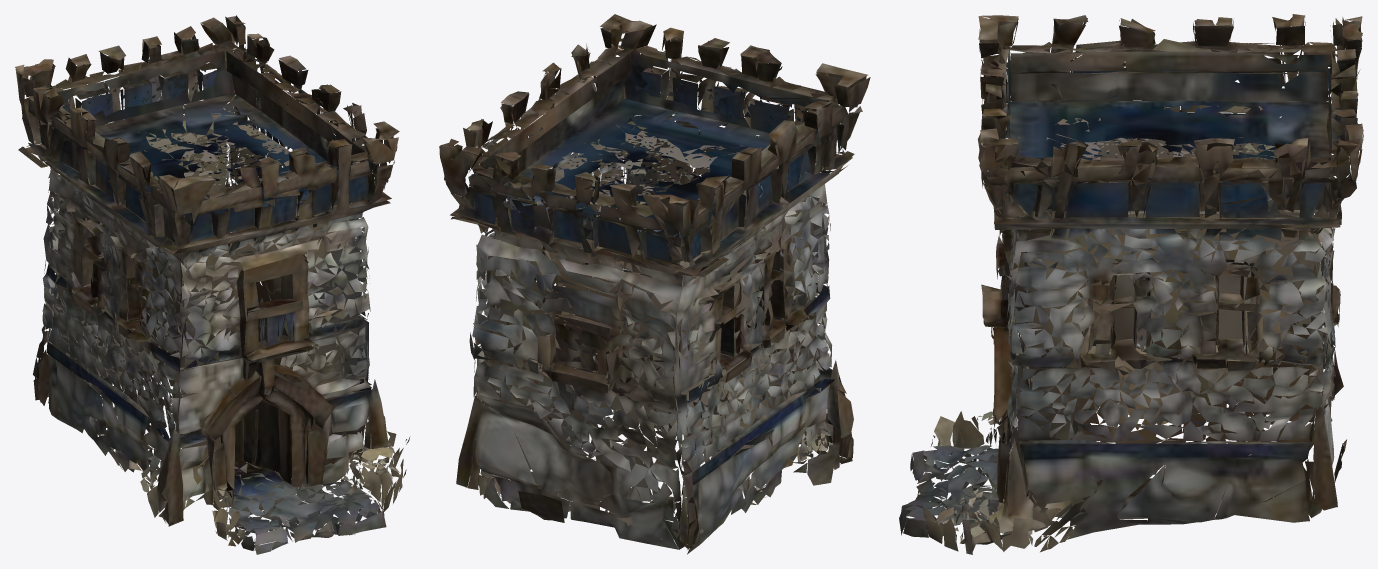
Rendered from watchtower.glb.
3 renders of one model, left to right at view 1: azimuth 30°, elevation 25°; view 2: azimuth 150°, elevation 25°; view 3: azimuth 270°, elevation 25°, orthographic. The views are drawn at different scales.
Parts seen in each view (by area): view 1: reference; view 2: reference; view 3: reference.
Part boxes in pixels (<box>): reference: <box>15,15,410,554</box>; reference: <box>439,14,870,554</box>; reference: <box>899,14,1363,554</box>.
Bounding box in the file's own units: 9.23 × 12.89 × 12.85.
Materials: 1 (1 with a texture image).
